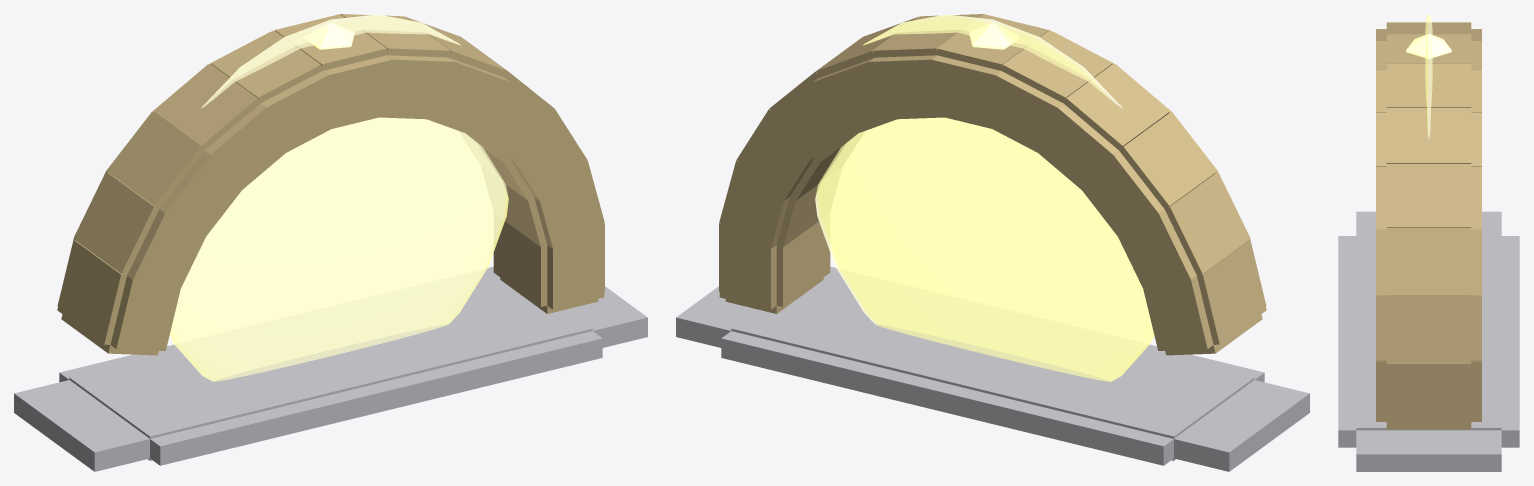
File: build_portal_jungle.glb
3 views of the same model, side by side, from view 1: azimuth 30°, elevation 25°; view 2: azimuth 150°, elevation 25°; view 3: azimuth 270°, elevation 25° (orthographic). The views are drawn at different scales.
Parts seen in each view (by area): view 1: box; view 2: box; view 3: box.
Boxes of the visible parts, x1,y1,x2,y2 form: box: [14, 14, 647, 471]; box: [676, 14, 1309, 471]; box: [1338, 14, 1519, 471].
Bounding box in the file's own units: 3.8 × 2.5 × 1.2.
